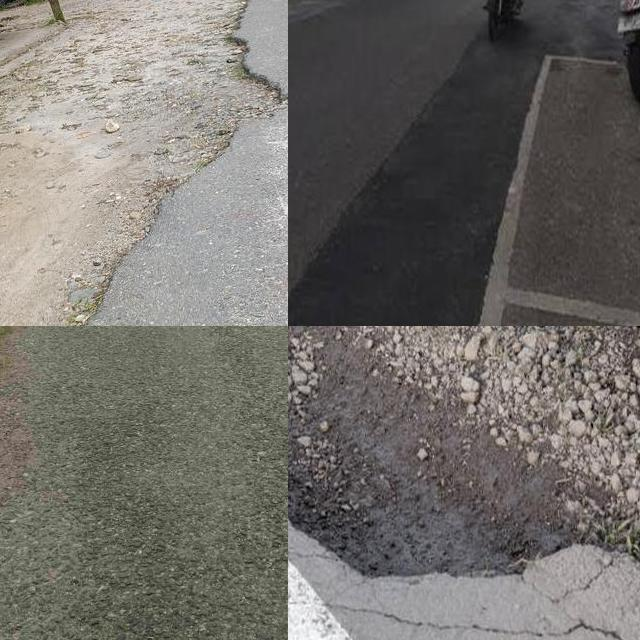Pinggir: (288, 326, 640, 589), (33, 14, 288, 326)
Sambungan: (288, 0, 630, 326)
